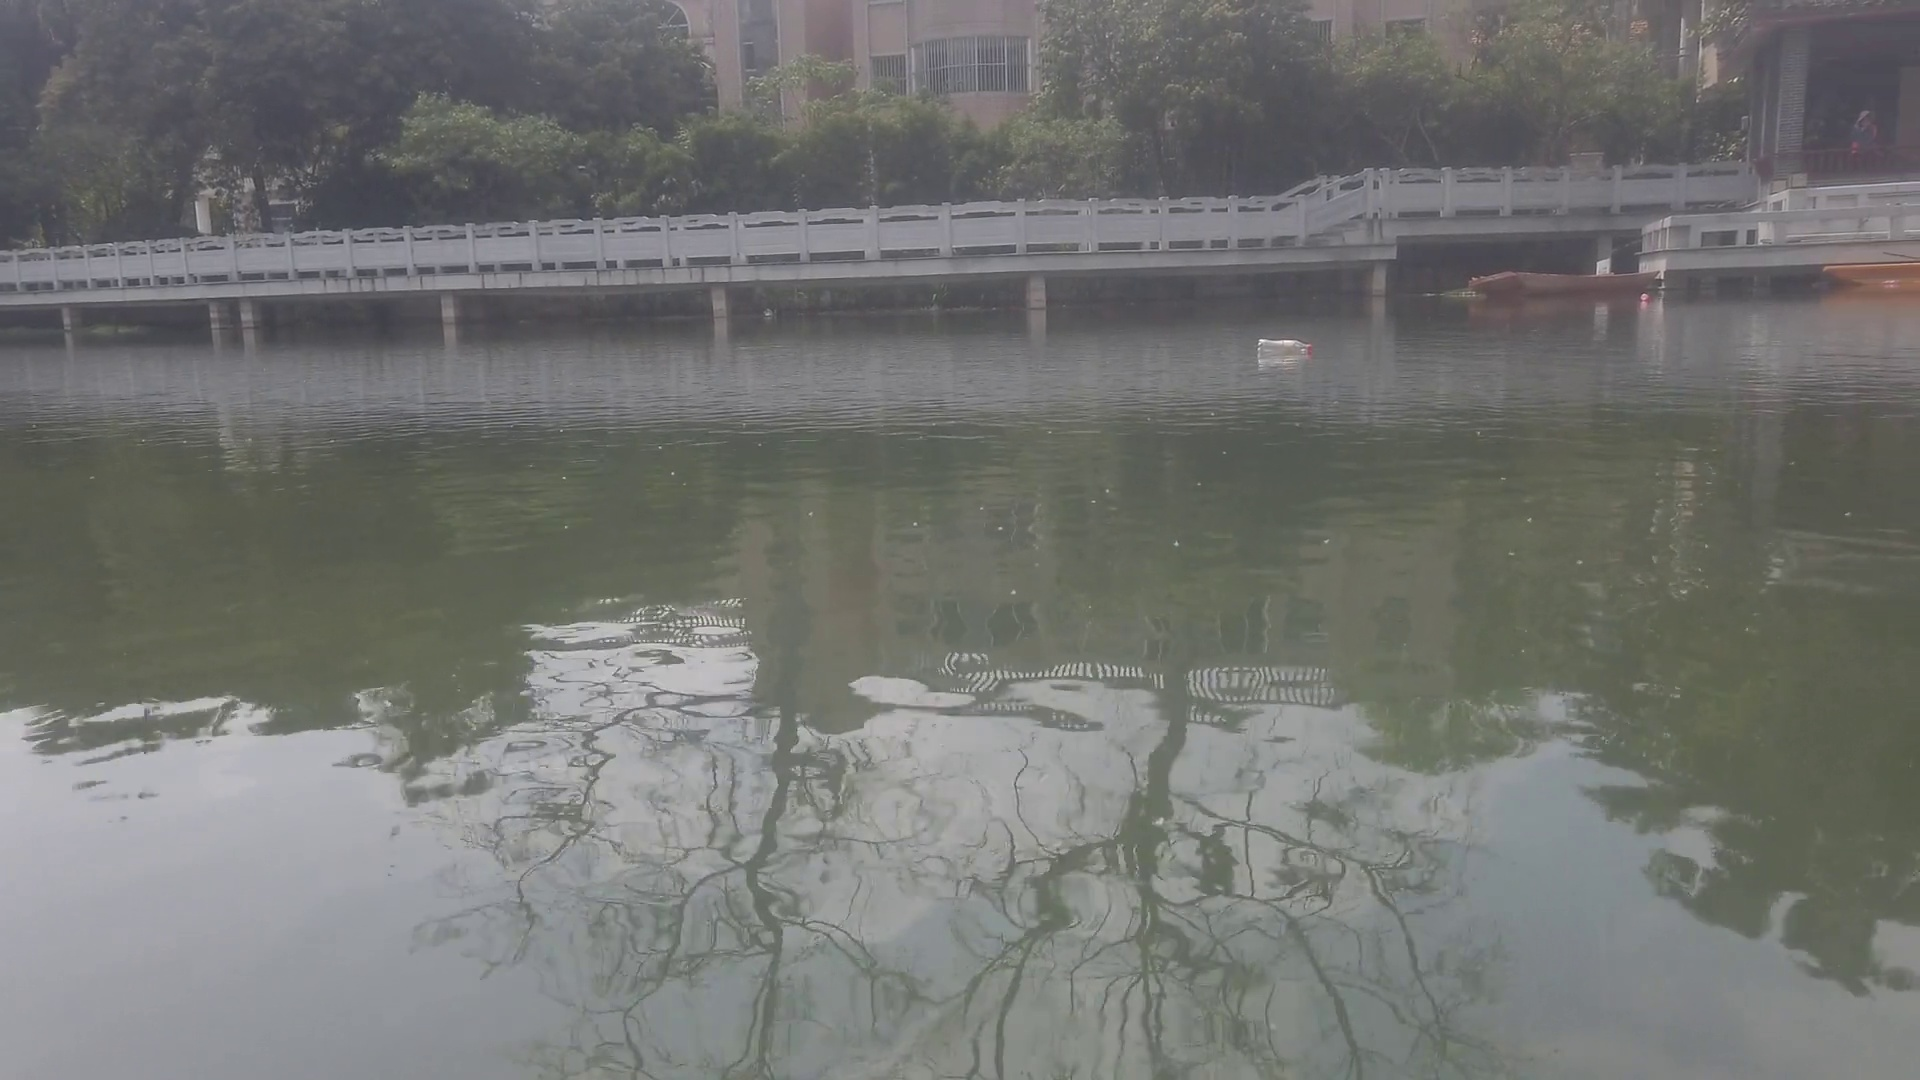bottle: (1255, 338, 1313, 357), (1636, 290, 1648, 307)
